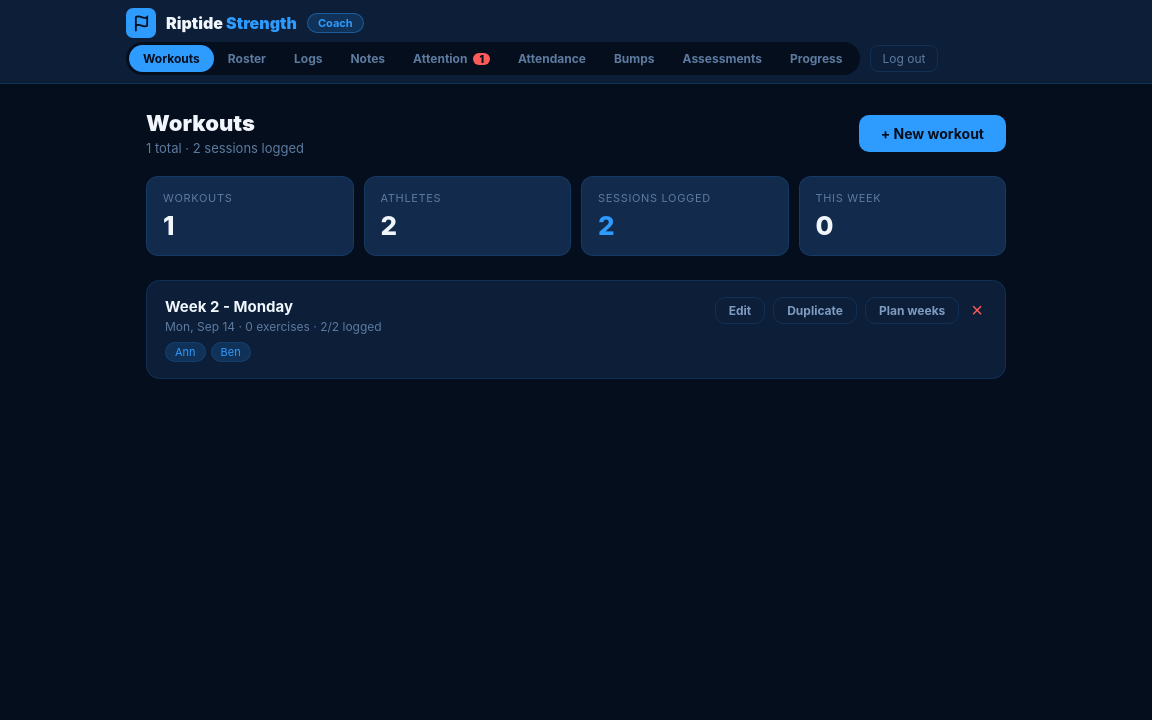
Scenario: coach dashboard › the Notes tab opens the feed
Click the button "notes" at (368, 58), box [336,45,399,72]
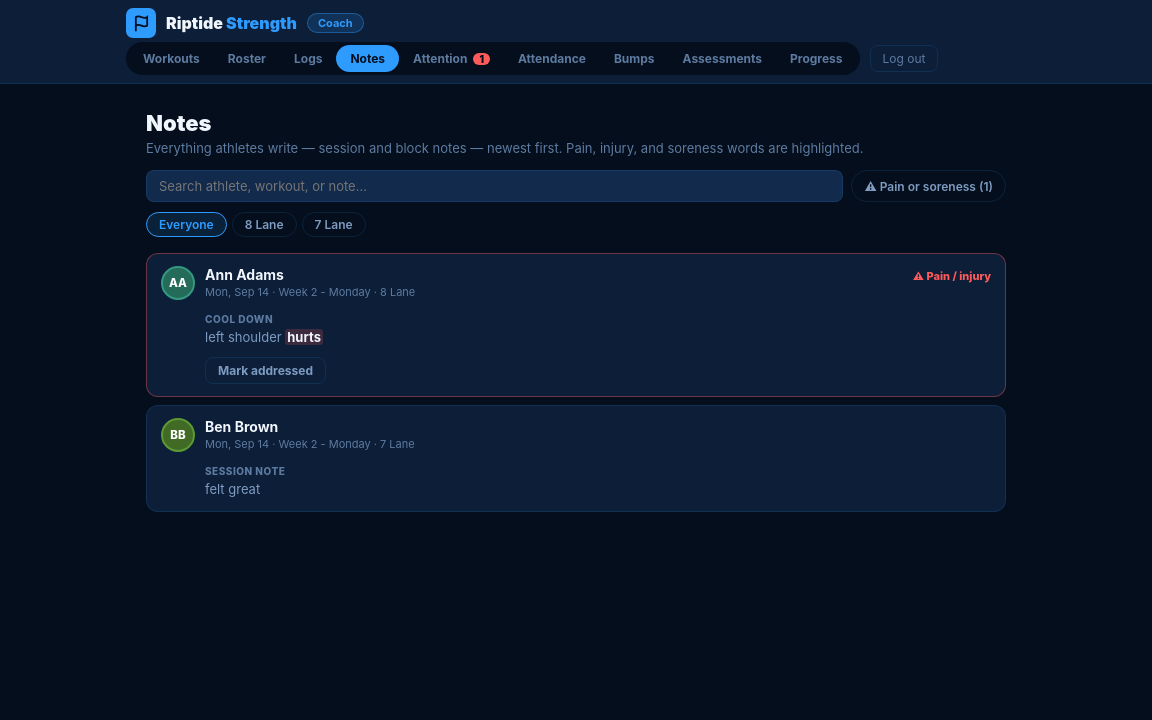
Expected: the heading "Notes" is shown, [146,110,212,136]
Expected: the number of elements with test id "note-card" is 2, [146,253,1006,397]; [146,405,1006,512]
